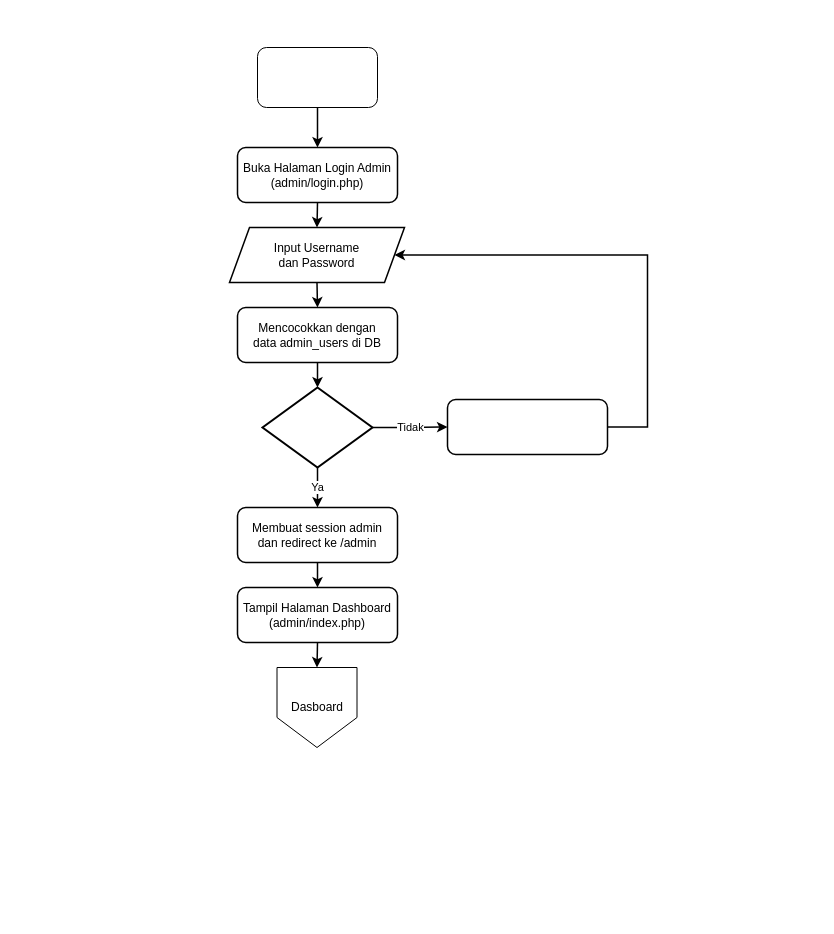
Some shapes in this 834 by 934 pixel diagram are drawn without their labels. Here are the shapes that lost their labels. From the top down, the centre of each, then its label:
point (317, 77): Mulai
point (317, 427): Kredensial Valid?
point (527, 426): Tampilkan pesan error "Username/password salah"
